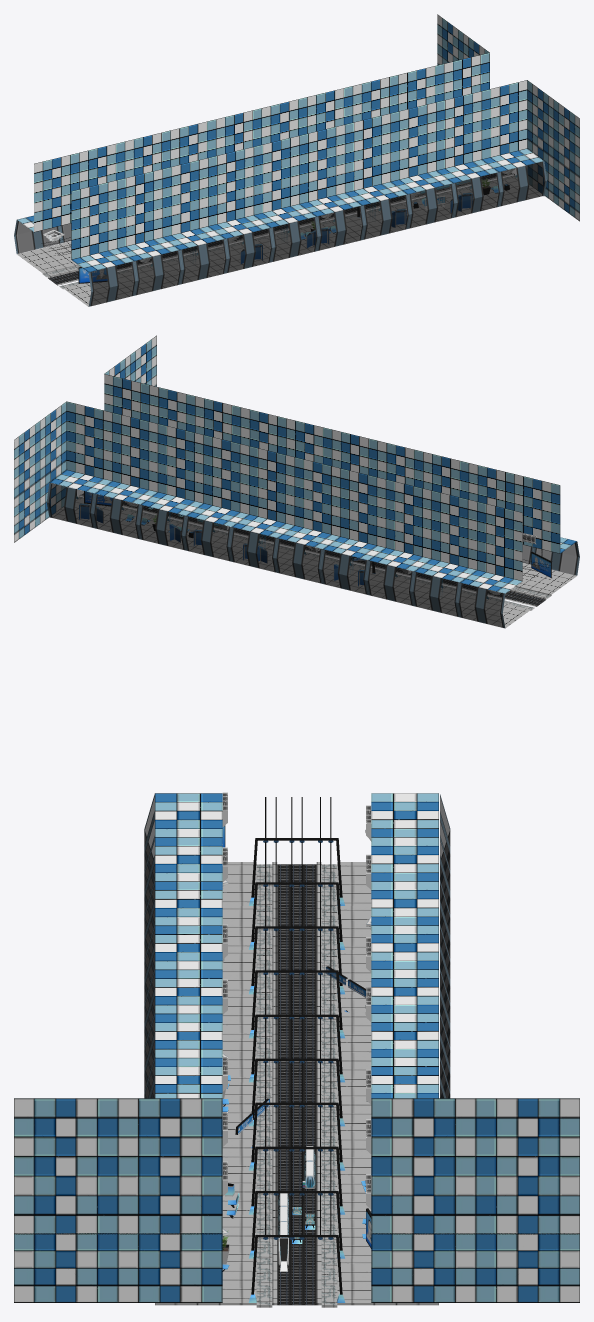
File: subwaysurferstest16.glb
The picture shows the model from 3 angles, top to bottom: view 1: azimuth 30°, elevation 25°; view 2: azimuth 150°, elevation 25°; view 3: azimuth 270°, elevation 25°; orthographic projection. The views are drawn at different scales.
Visible parts, largest first — view 1: tiledwall.016, tiledwall, tiledwall.005, tiledwall.018, tiledwall.019, tiledwall.024, tiledwall.006, tiledwall.017, tiledwall.003, tiledwall.023, tiledwall.025, tiledwall.001 (+35 smaller); view 2: tiledwall.013, tiledwall.021, tiledwall.025, tiledwall.009, tiledwall.012, tiledwall.022, tiledwall.020, tiledwall.027, tiledwall.007, tiledwall.026, tiledwall.024, tiledwall.008 (+36 smaller); view 3: tiledwall.014, tiledwall.008, tiledwall.002, tiledwall.001, tiledwall.010, tiledwall.004, tiledwall.015, tiledwall.011, tiledwall.017, tiledwall.018, tiledwall.019, tiledwall.020 (+40 smaller).
Boxes of the visible parts, <box> form: tiledwall.016: <box>162,158,224,249</box>; tiledwall: <box>481,80,543,171</box>; tiledwall.005: <box>390,102,452,194</box>; tiledwall.018: <box>253,136,316,227</box>; tiledwall.019: <box>208,147,270,238</box>; tiledwall.024: <box>71,180,133,272</box>; tiledwall.006: <box>345,113,407,205</box>; tiledwall.017: <box>299,124,361,216</box>; tiledwall.003: <box>436,91,498,183</box>; tiledwall.023: <box>117,169,179,260</box>; tiledwall.025: <box>17,152,79,232</box>; tiledwall.001: <box>527,80,553,167</box>; tiledwall.013: <box>50,401,112,493</box>; tiledwall.021: <box>278,457,340,548</box>; tiledwall.025: <box>460,501,522,593</box>; tiledwall.009: <box>141,423,203,515</box>; tiledwall.012: <box>95,412,157,504</box>; tiledwall.022: <box>232,446,294,537</box>; tiledwall.020: <box>323,468,385,560</box>; tiledwall.027: <box>369,479,431,571</box>; tiledwall.007: <box>187,435,248,526</box>; tiledwall.026: <box>415,490,476,582</box>; tiledwall.024: <box>514,474,576,553</box>; tiledwall.008: <box>14,421,40,508</box>; tiledwall.014: <box>371,1098,475,1234</box>; tiledwall.008: <box>475,1098,579,1234</box>; tiledwall.002: <box>14,1098,118,1234</box>; tiledwall.001: <box>118,1098,222,1234</box>; tiledwall.010: <box>14,1233,118,1302</box>; tiledwall.004: <box>118,1233,222,1302</box>; tiledwall.015: <box>371,1233,475,1302</box>; tiledwall.011: <box>475,1233,579,1302</box>; tiledwall.017: <box>155,1013,222,1057</box>; tiledwall.018: <box>155,969,222,1013</box>; tiledwall.019: <box>155,925,222,969</box>; tiledwall.020: <box>371,925,438,969</box>.
Bounding box in the file's own units: 403 × 88.5 × 217.
3 materials, 3 textured.
